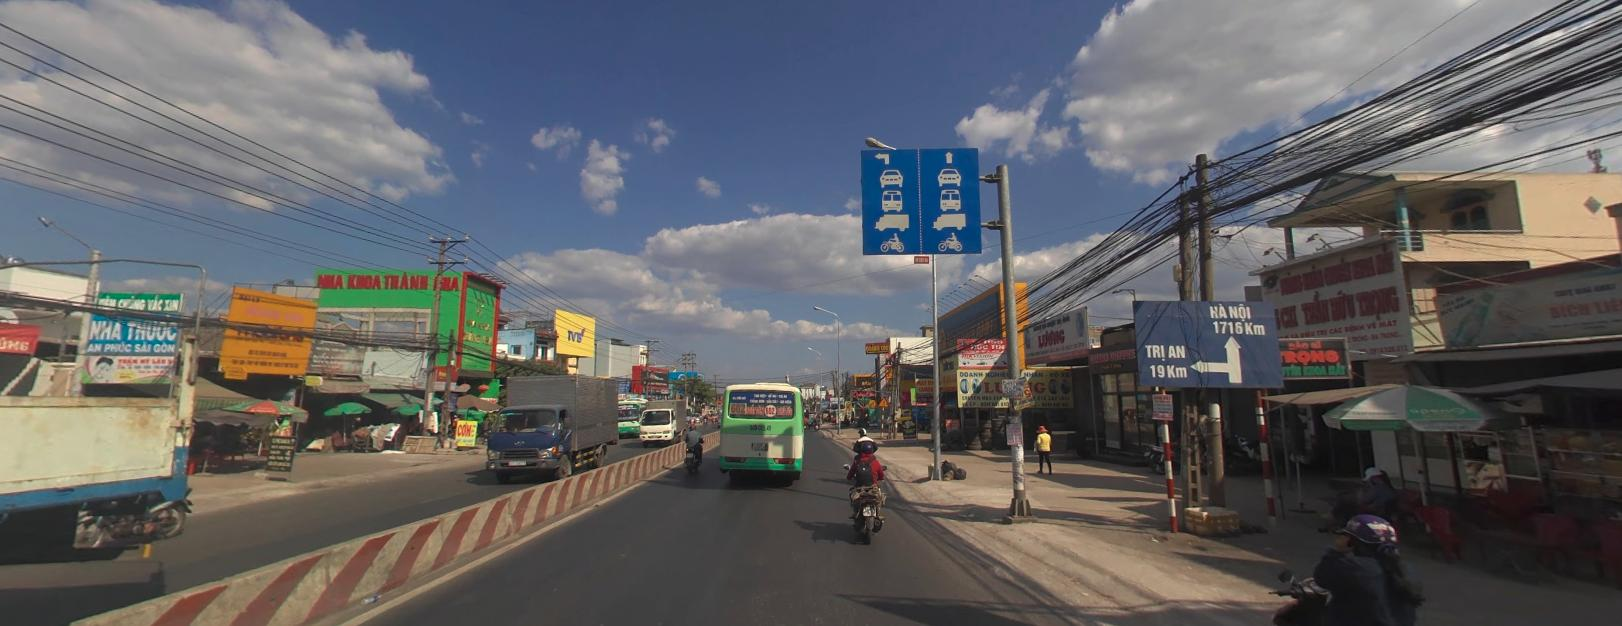Nguy hiem: (878, 396, 888, 406)
